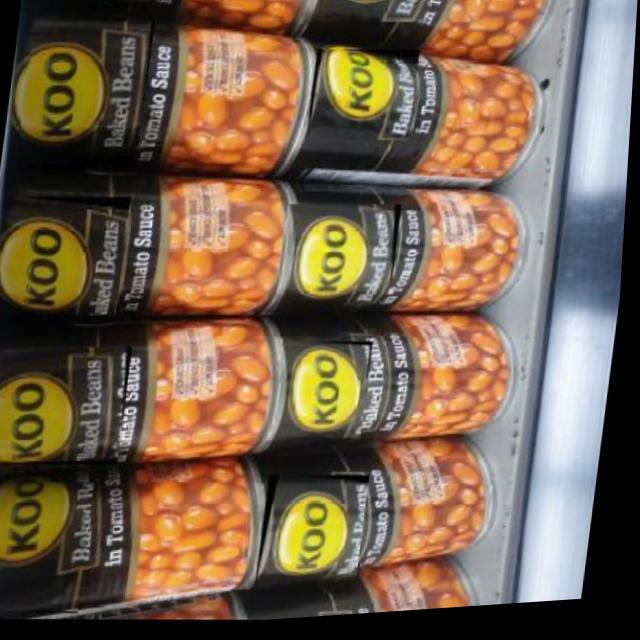Beans: (18, 12, 157, 175), (0, 335, 139, 472), (0, 186, 136, 322), (278, 198, 406, 323), (261, 471, 377, 602), (0, 472, 103, 619), (308, 45, 423, 149), (288, 339, 379, 447), (318, 0, 434, 34)
